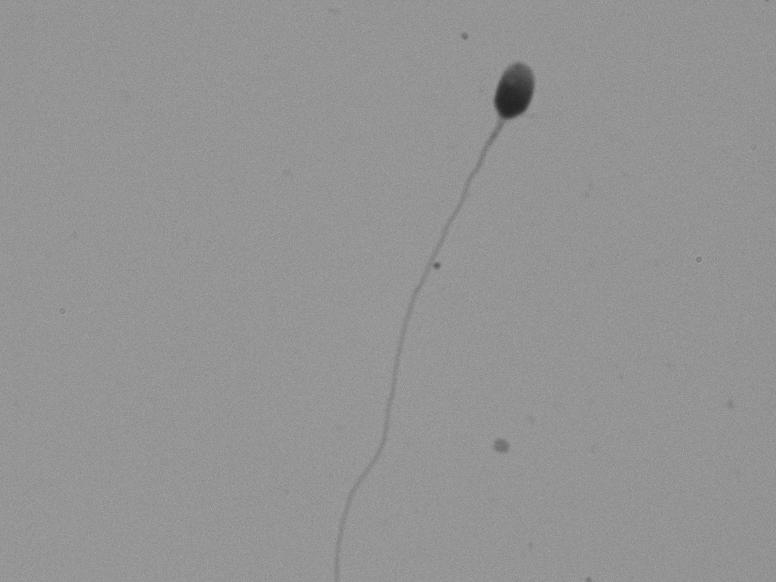Normal: (316, 32, 601, 568)
